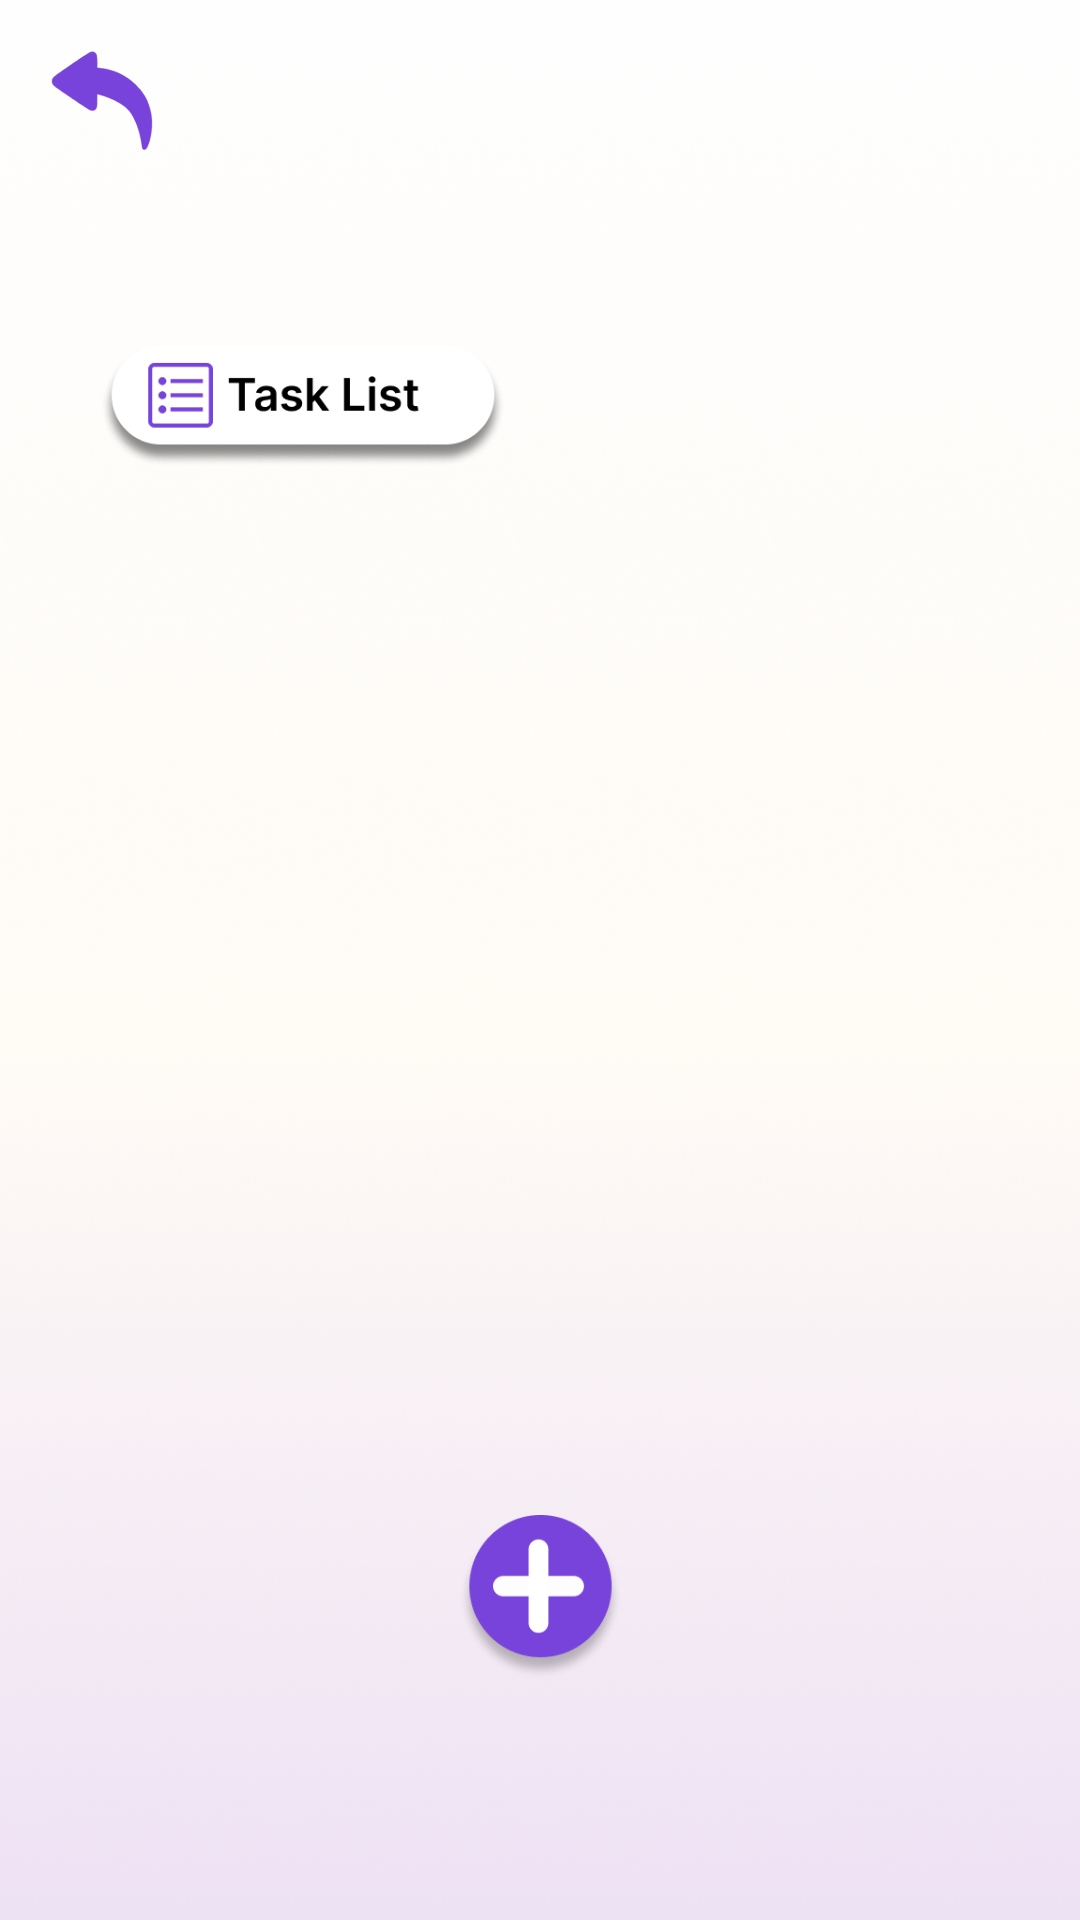

Where to tap for icons on this 1080*1920 app screen, as (x,y):
back: (102,100)
